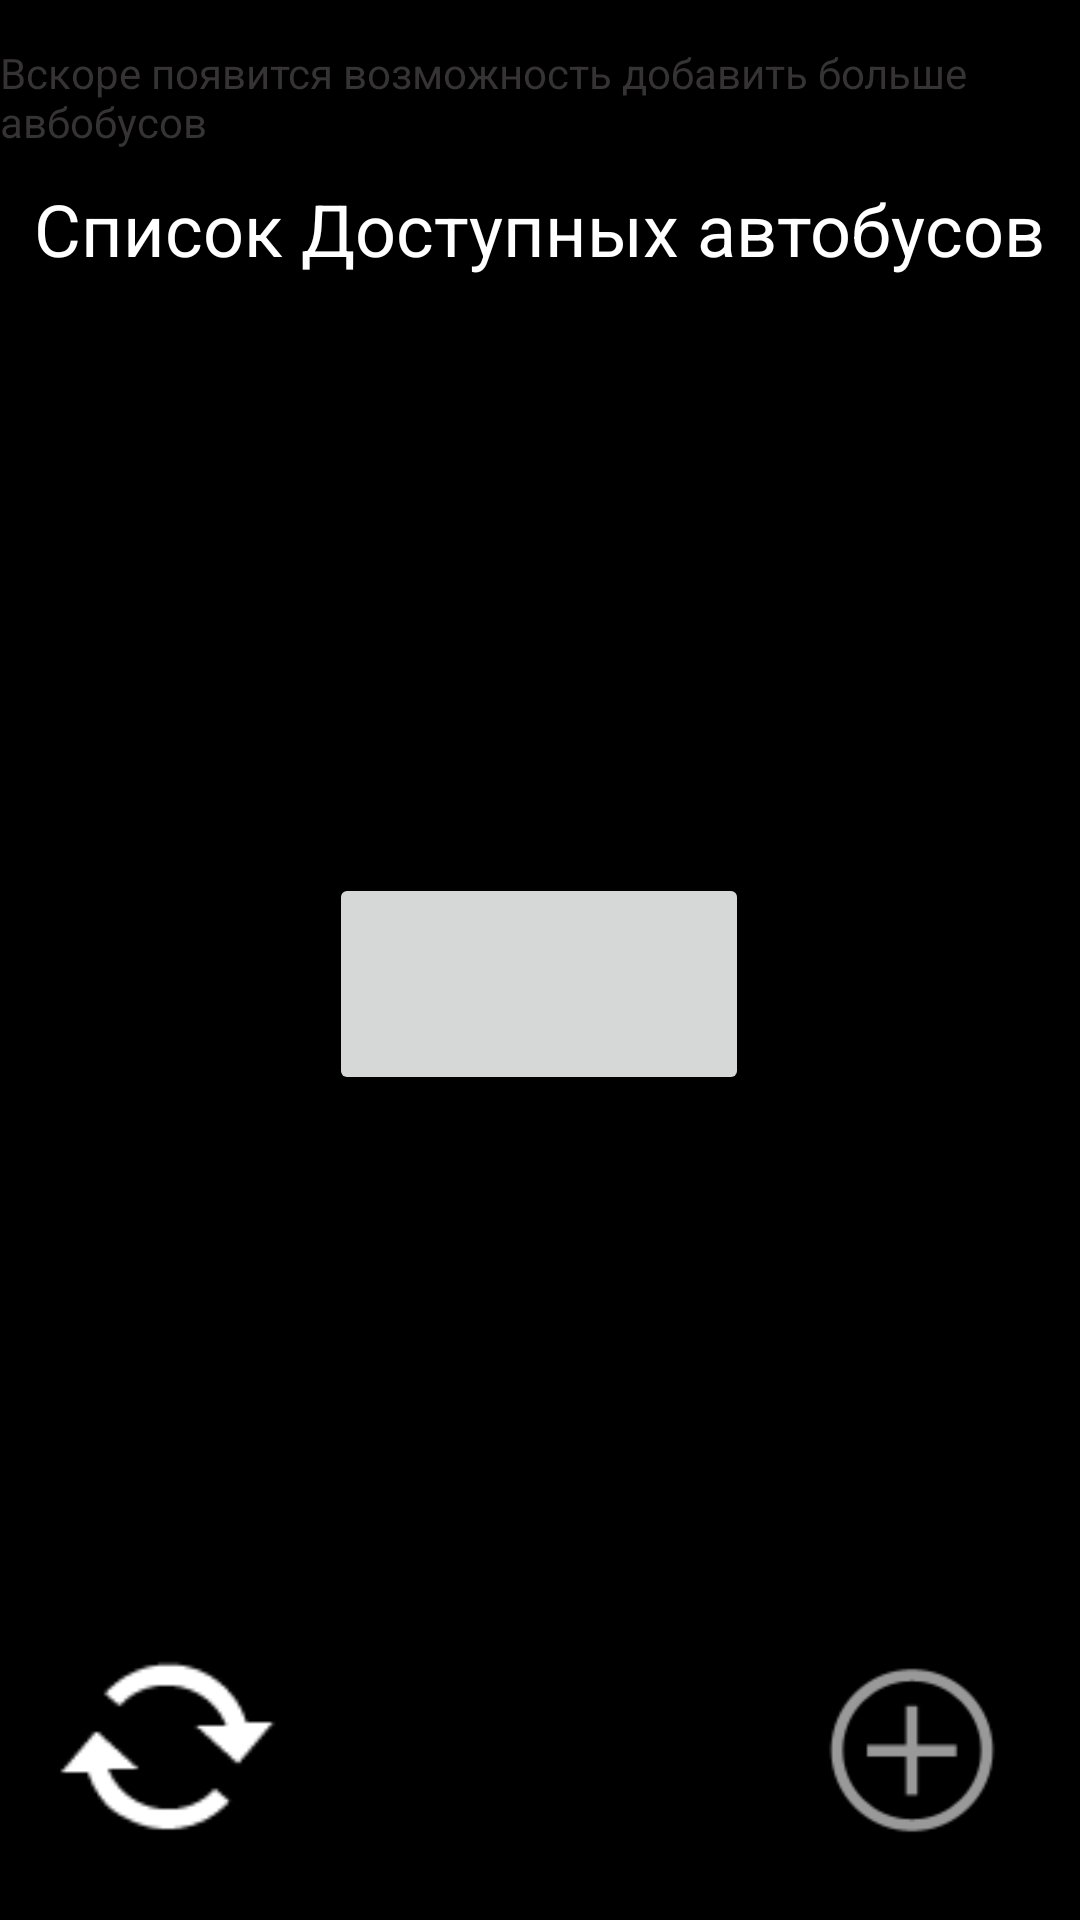

Icon bounding boxes for this 1080 x 1920 phone screenshot, format (x1,y1,x2,y2):
add: (830,1668,994,1832)
sync: (60,1662,274,1830)
